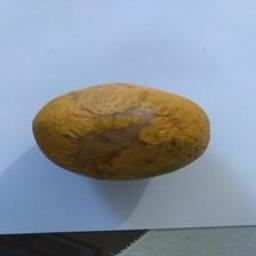Orange Semirotten: (28, 75, 215, 192)
